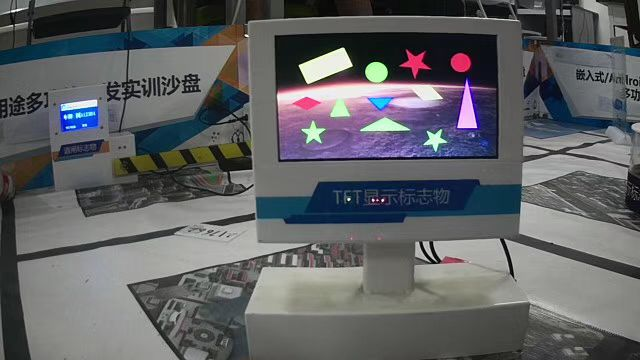graph: (272, 31, 504, 162)
